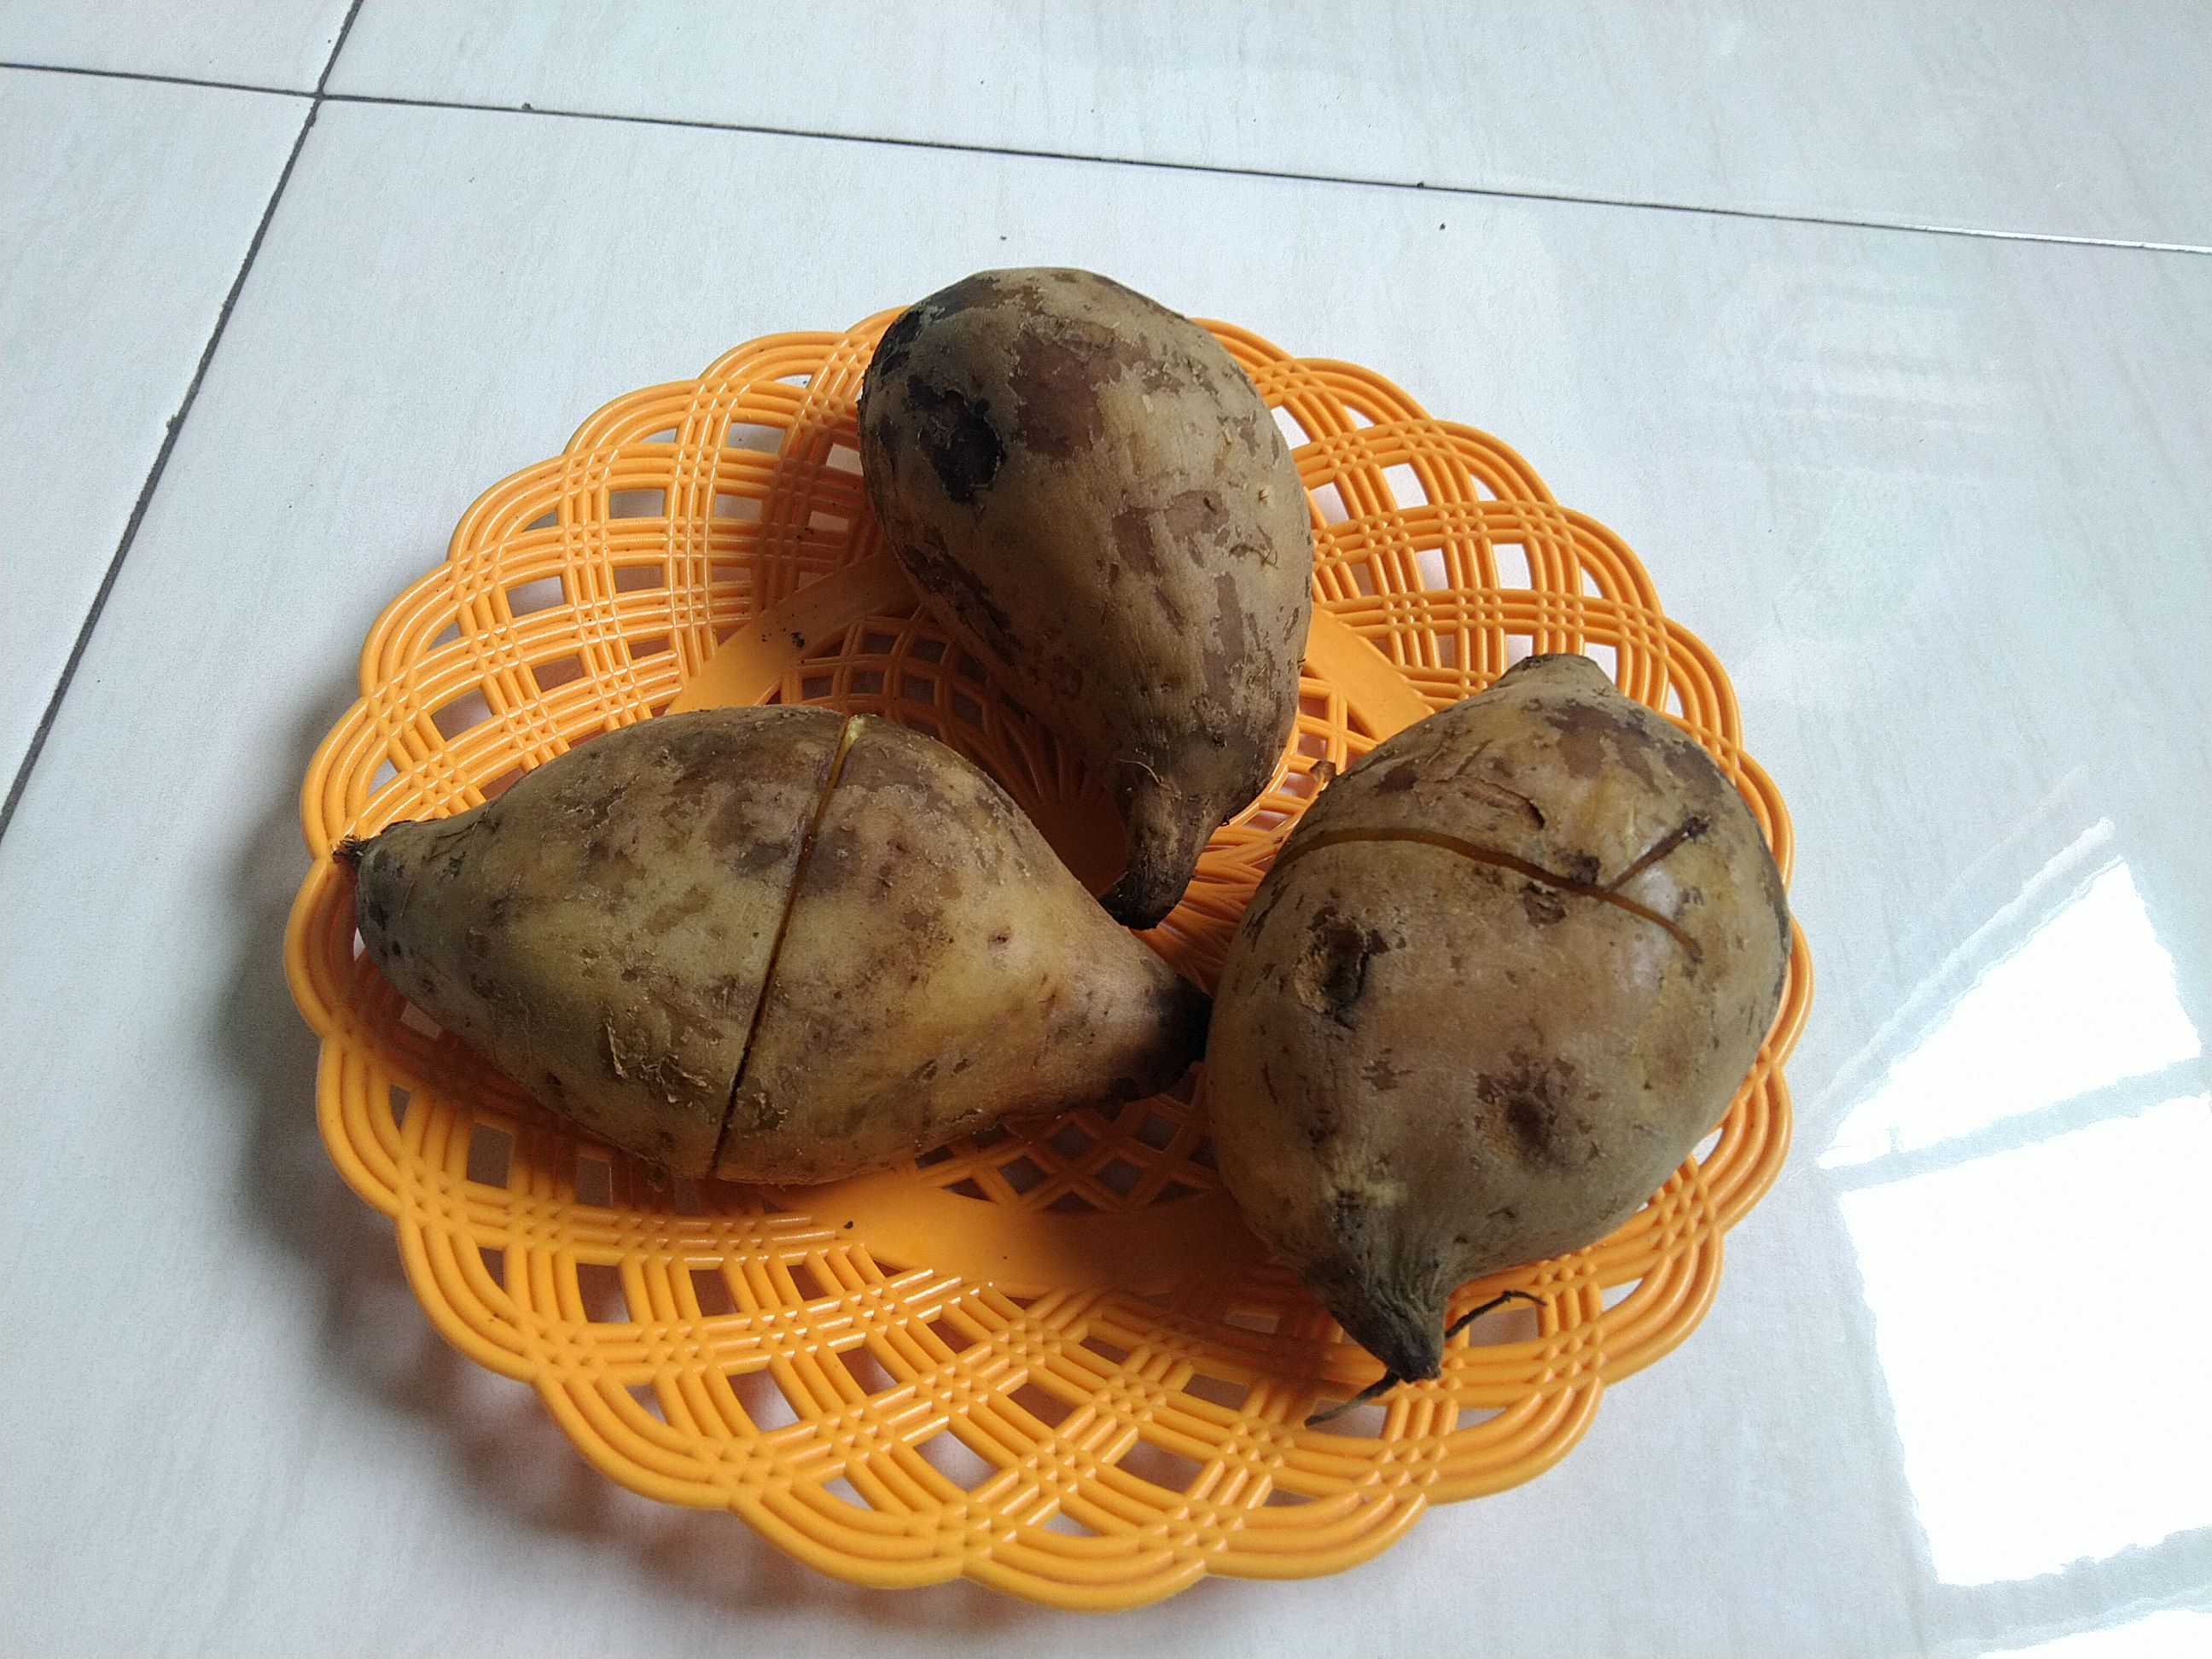ubi kuning: (1186, 650, 1818, 1389), (329, 706, 1202, 1204), (838, 249, 1320, 938)
